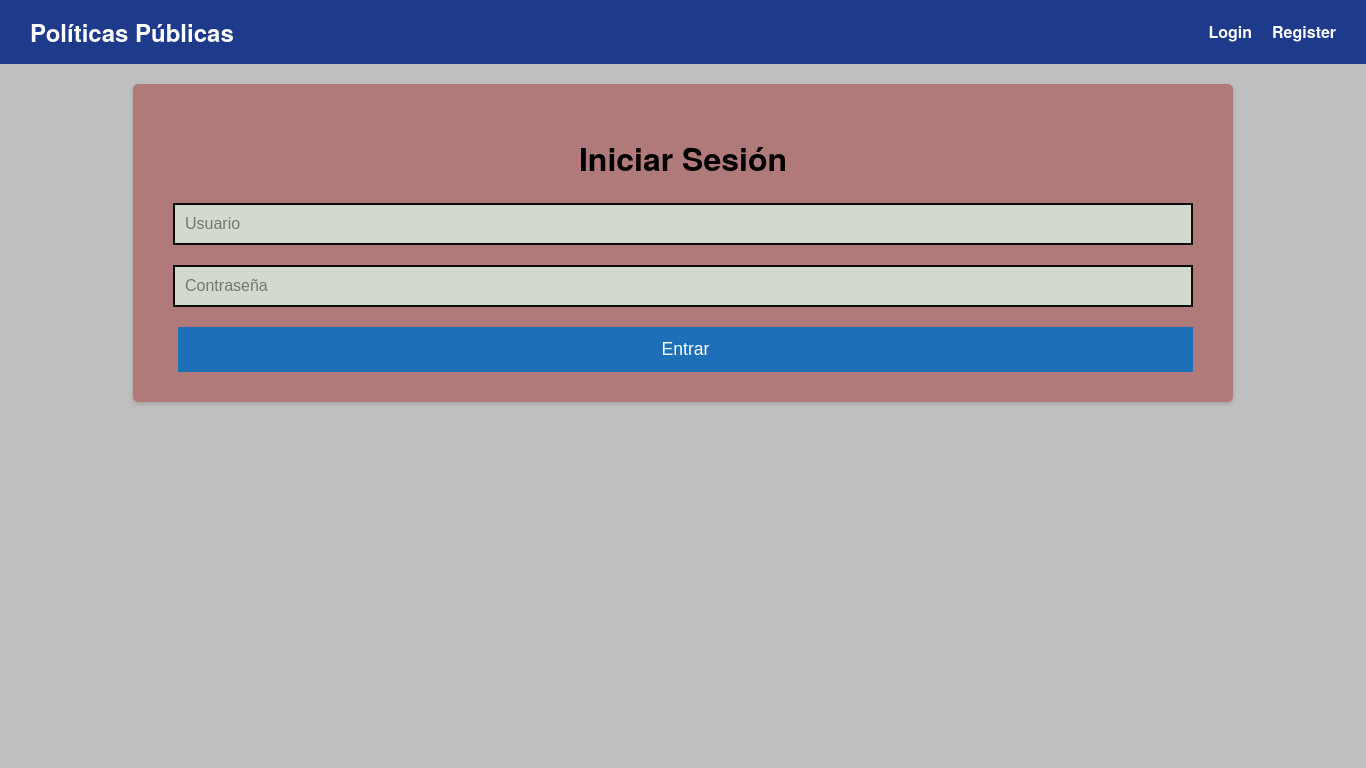
Test case: App › handles login and logout
The width and height of the screenshot is (1366, 768).
In the field with placeholder "Usuario": (683, 224) [173,203,1193,245], type "testuser"
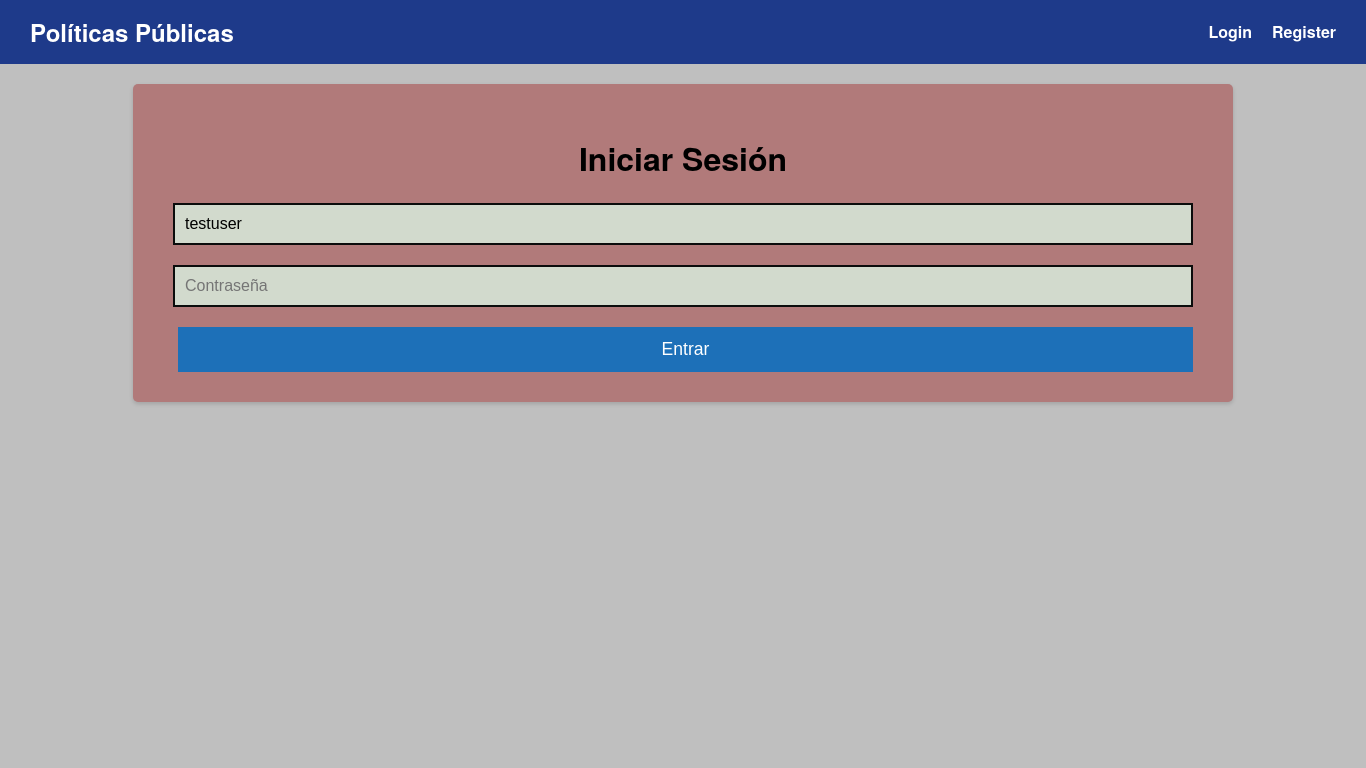
In the password field with placeholder "Contraseña": (683, 286) [173,265,1193,307], type "password"
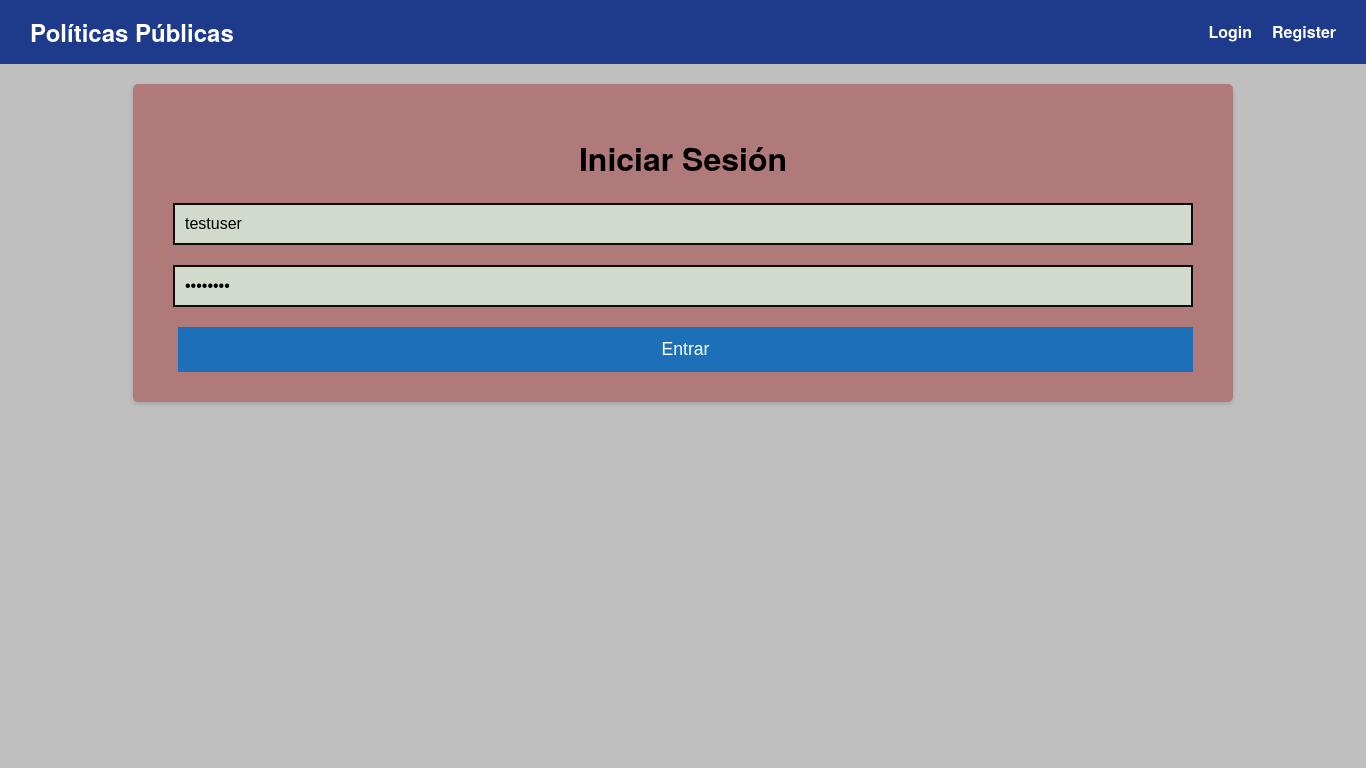
Click the button "Entrar": (686, 349) [178,327,1193,372]
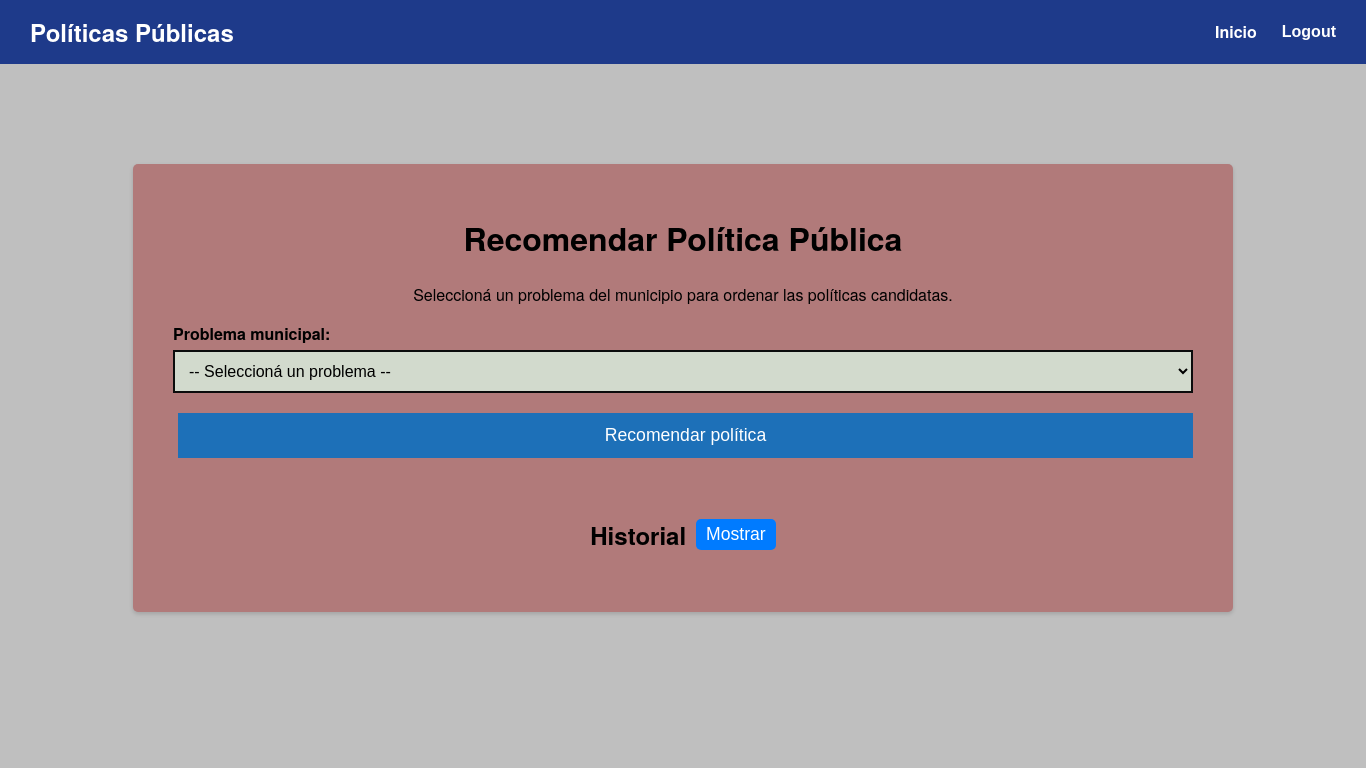
Expected: the heading "Recomendar Política Pública" is shown, [464,215,902,261]
Click the button "Logout": (1309, 32) [1282,22,1336,42]
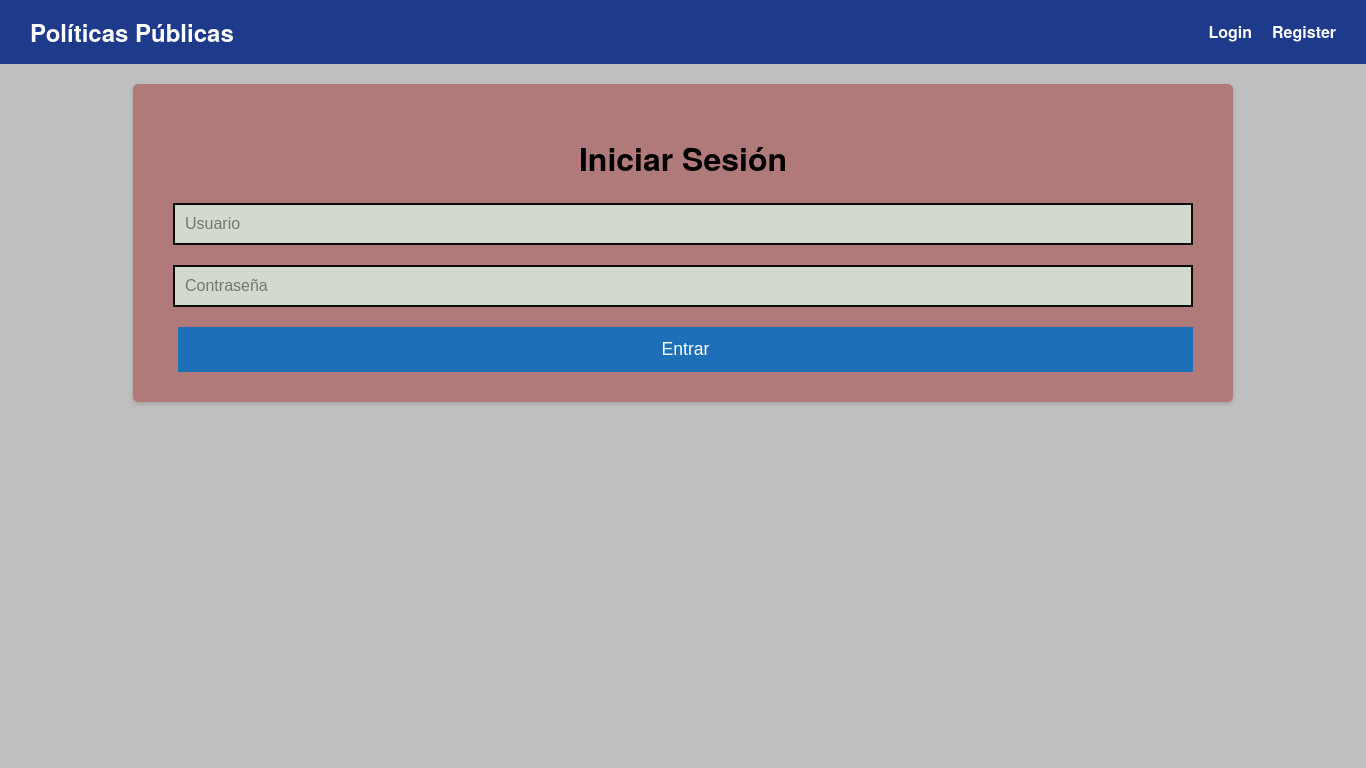
Expected: the heading "Iniciar Sesión" is shown, [579,135,787,181]
